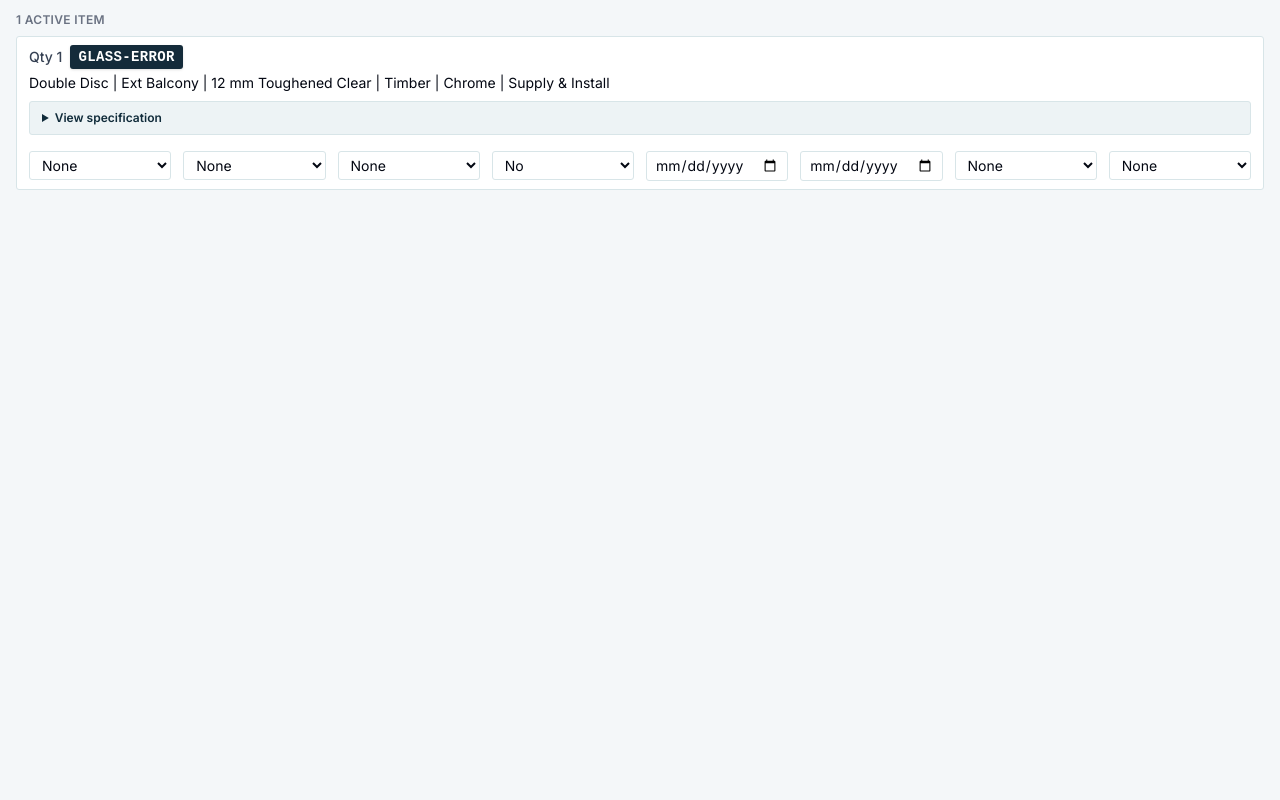
Test: WorkOrderItemsSummary › associates the missing change reason error with its invalid control
Click the heading "View specification": (108, 118) [55,110,162,125]
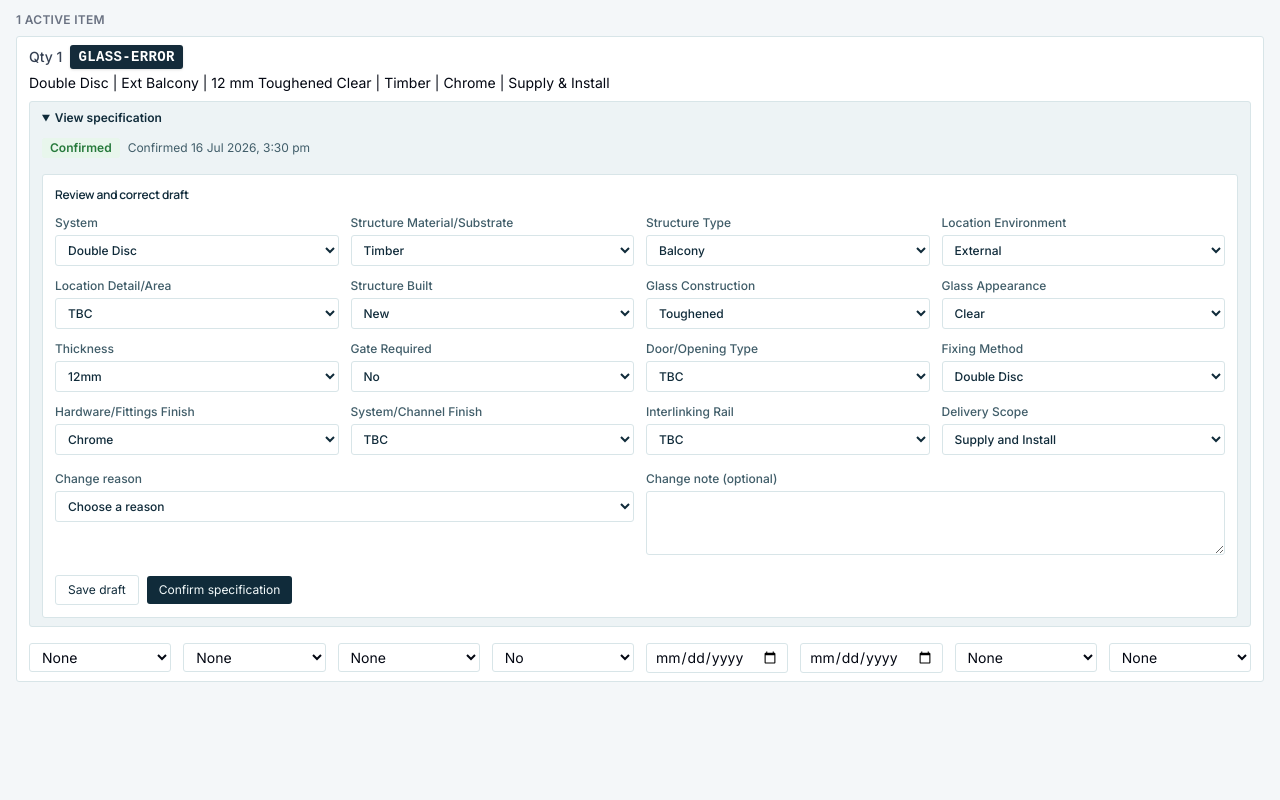
Click the button "Confirm specification": (220, 590) [147,576,292,604]
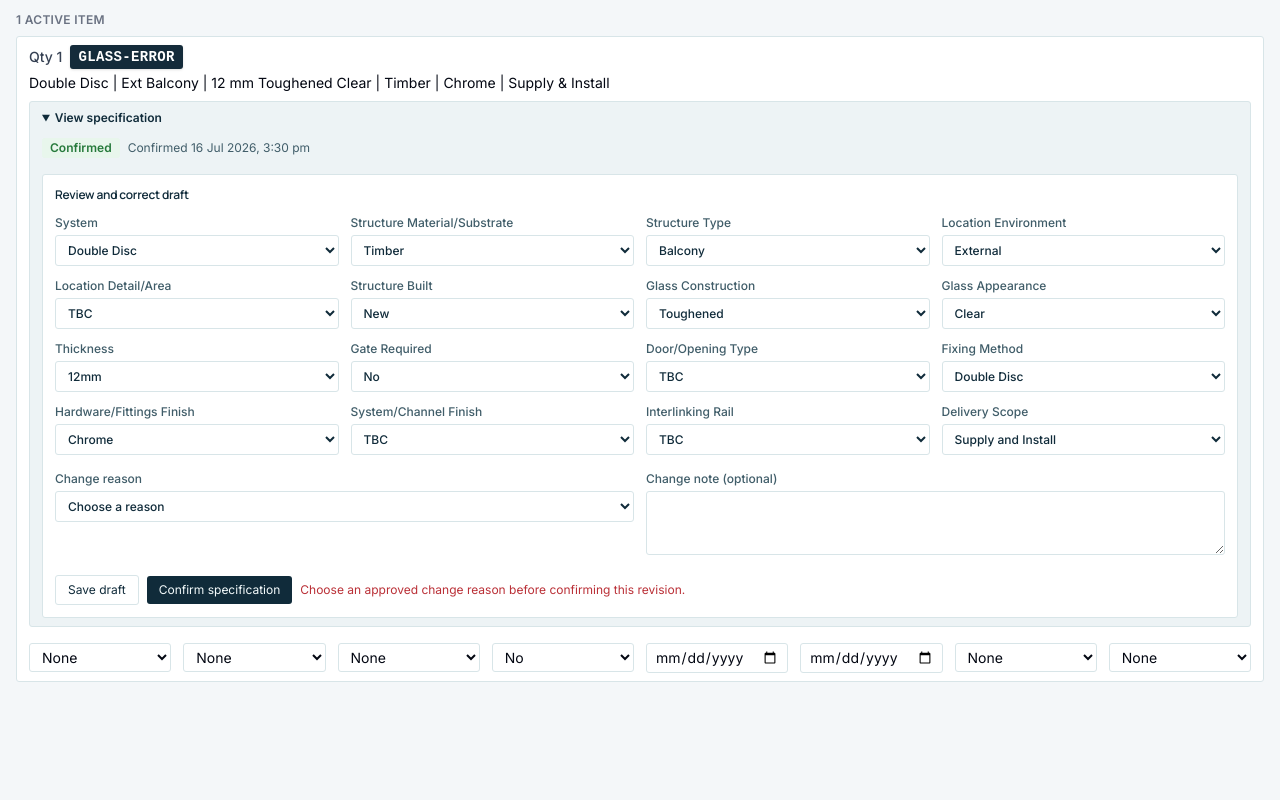
Now the message reads "Choose an approved change reason before confirming this revision.", box [300,582,685,597]
